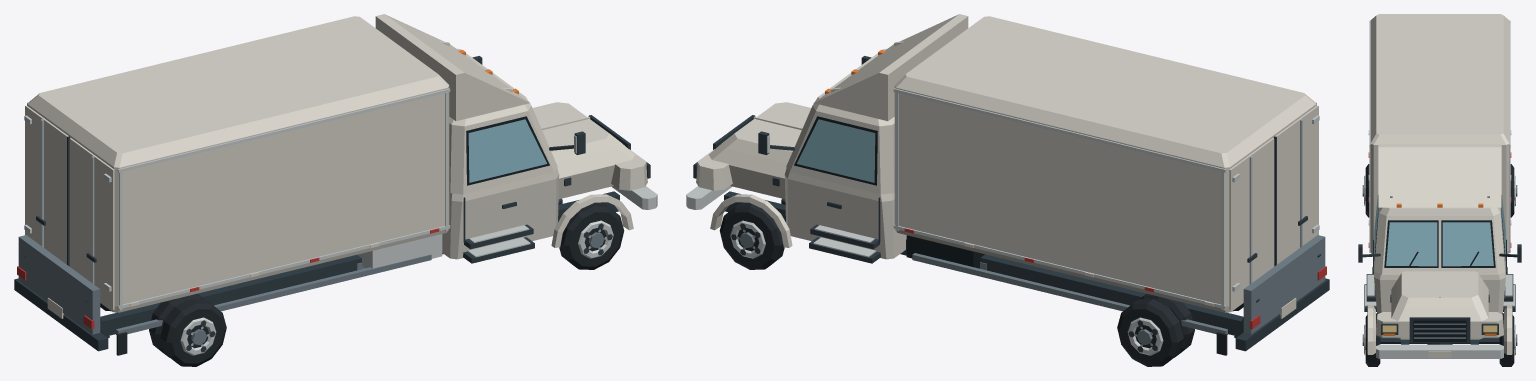
File: b15_commercial_box_truck.glb
The picture shows the model from 3 angles, left to right: view 1: azimuth 30°, elevation 25°; view 2: azimuth 150°, elevation 25°; view 3: azimuth 270°, elevation 25°; orthographic projection. The views are drawn at different scales.
Parts seen in each view (by area): view 1: b15_commercial_box_truck; view 2: b15_commercial_box_truck; view 3: b15_commercial_box_truck.
Part boxes in pixels (x1,y1,x2,y2): b15_commercial_box_truck: (14, 14, 657, 366); b15_commercial_box_truck: (686, 14, 1329, 366); b15_commercial_box_truck: (1358, 14, 1521, 366).
Size of the model in its own units: 8.93 by 3.42 by 2.9.
